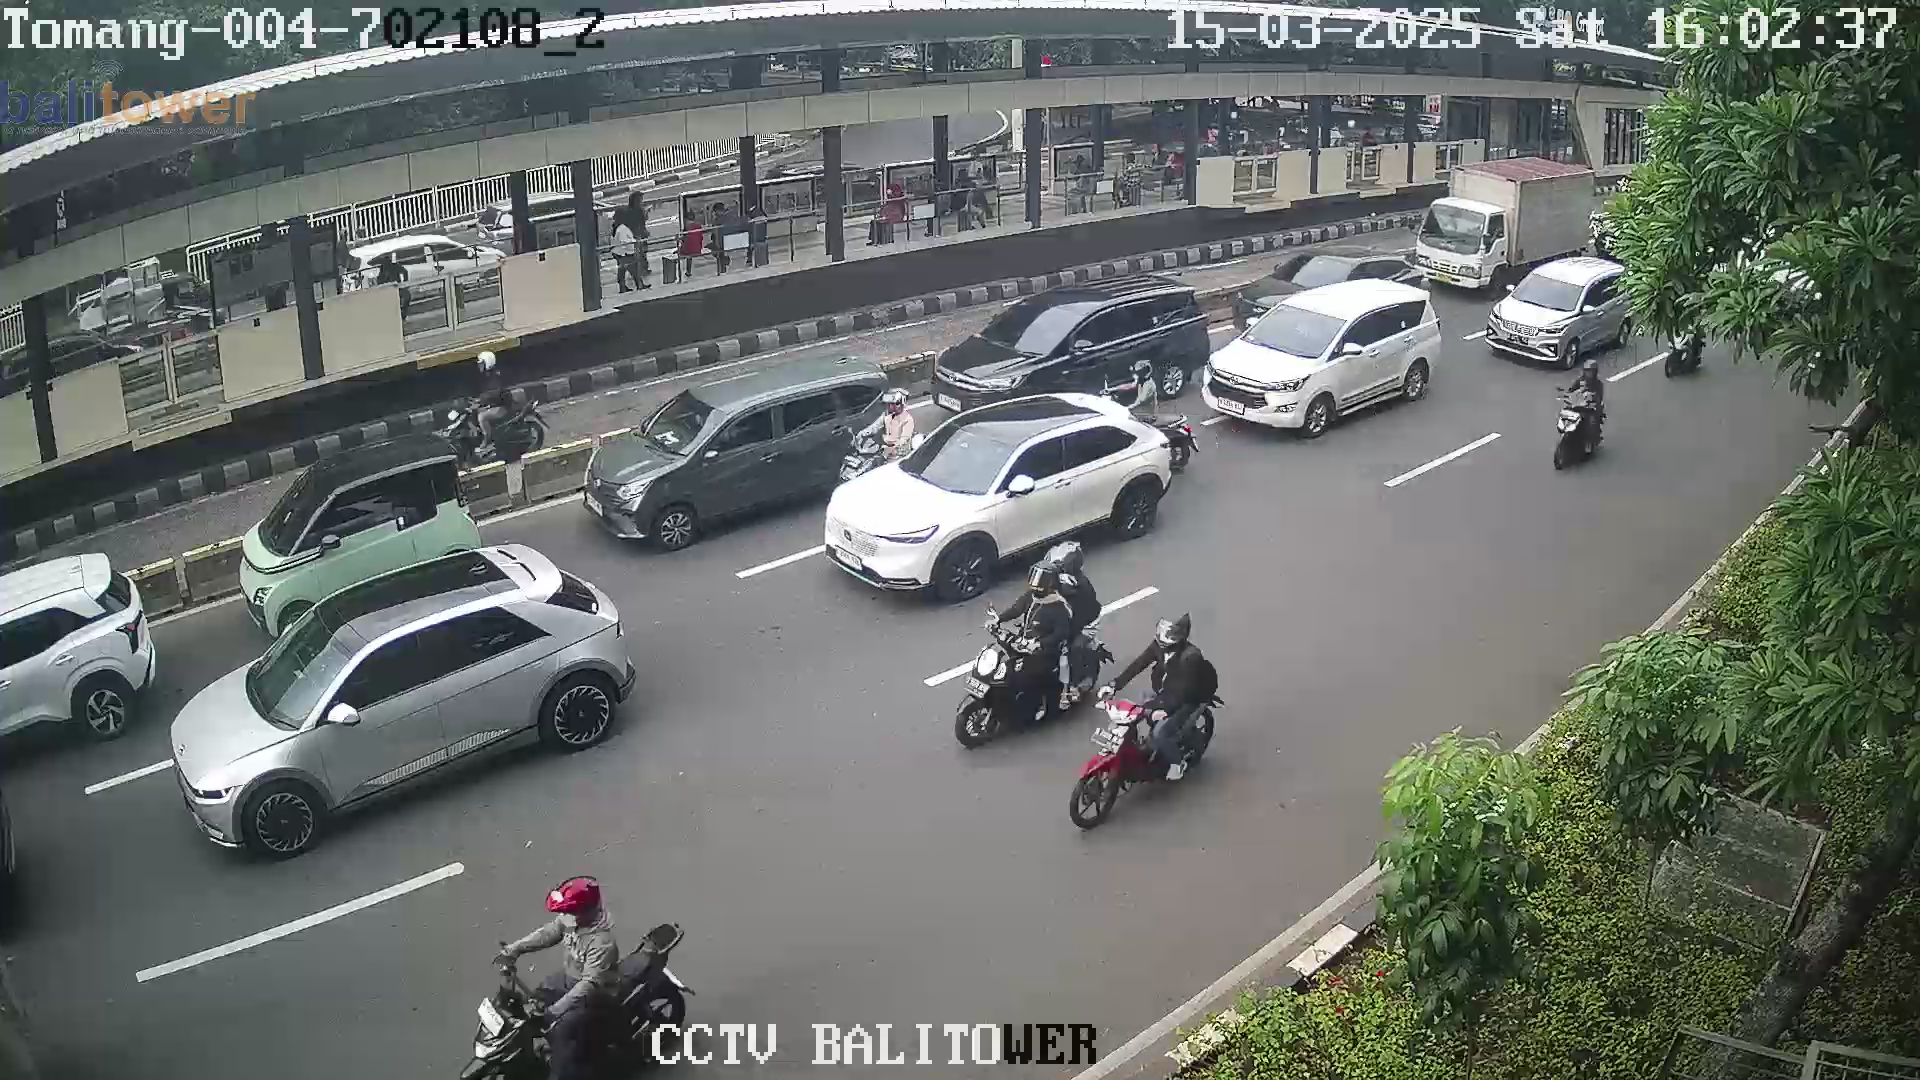half-face helmet: (537, 873, 617, 937), (1151, 606, 1206, 673), (1021, 555, 1063, 612), (874, 384, 921, 420), (1570, 349, 1606, 392)
